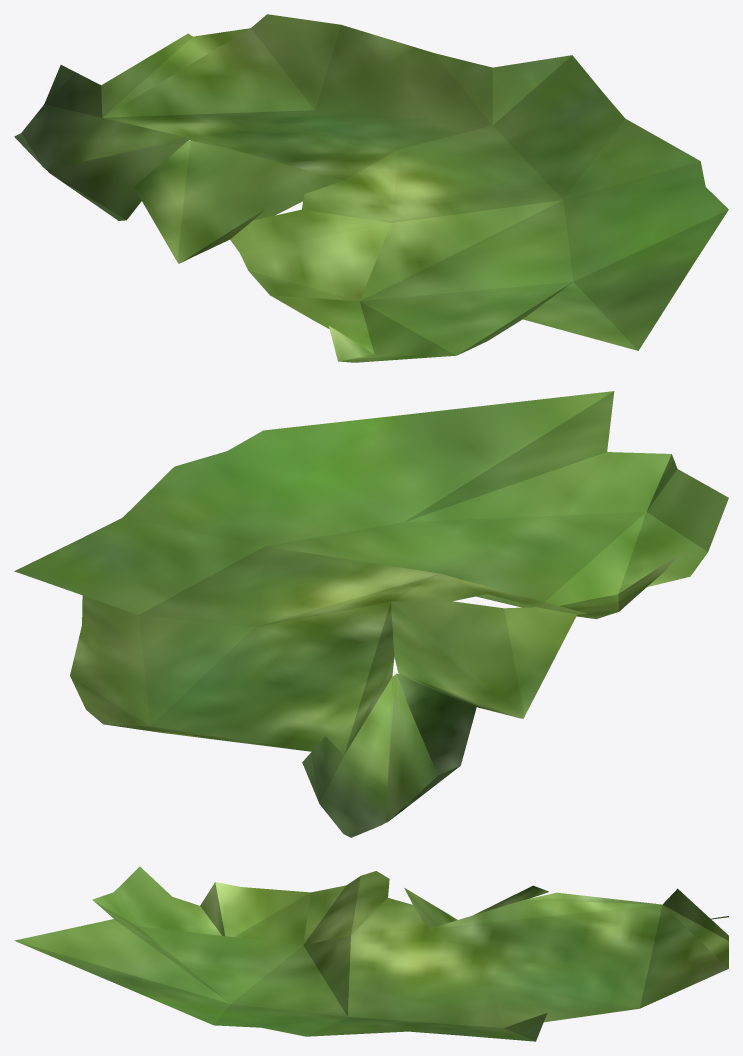
The picture shows the model from 3 angles, top to bottom: view 1: azimuth 30°, elevation 25°; view 2: azimuth 150°, elevation 25°; view 3: azimuth 270°, elevation 25°; orthographic projection. The views are drawn at different scales.
Size of the model in its own units: 3.79 by 0.629 by 6.54.
Materials: 1 (1 with a texture image).
